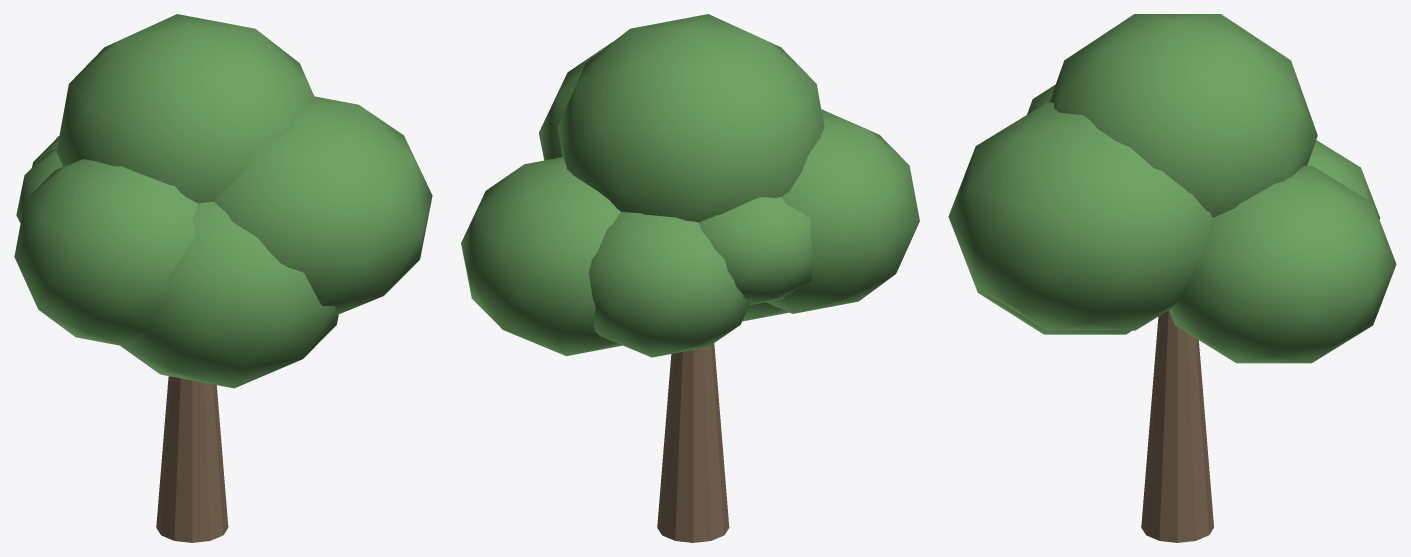
File: tree_oak.glb
The picture shows the model from 3 angles, left to right: view 1: azimuth 30°, elevation 25°; view 2: azimuth 150°, elevation 25°; view 3: azimuth 270°, elevation 25°; orthographic projection.
Visible parts, largest first — view 1: Icosphere, Icosphere.006, Icosphere.004, Icosphere.005, Cone, Icosphere.003; view 2: Icosphere, Icosphere.001, Icosphere.004, Icosphere.002, Cone, Icosphere.003, Icosphere.006; view 3: Icosphere.006, Icosphere, Icosphere.001, Cone, Icosphere.002, Icosphere.005.
Boxes of the visible parts, x1,y1,x2,y2 form: Icosphere: [56, 14, 315, 203]; Icosphere.006: [214, 96, 432, 314]; Icosphere.004: [14, 159, 198, 345]; Icosphere.005: [119, 201, 338, 388]; Cone: [156, 376, 228, 542]; Icosphere.003: [16, 148, 62, 223]; Icosphere: [557, 14, 824, 222]; Icosphere.001: [461, 157, 622, 355]; Icosphere.004: [766, 109, 919, 313]; Icosphere.002: [588, 212, 750, 357]; Cone: [657, 343, 729, 542]; Icosphere.003: [698, 197, 812, 304]; Icosphere.006: [539, 42, 612, 160]; Icosphere.006: [948, 102, 1212, 330]; Icosphere: [1049, 14, 1317, 217]; Icosphere.001: [1169, 165, 1396, 363]; Cone: [1141, 310, 1213, 542]; Icosphere.002: [1307, 140, 1380, 219]; Icosphere.005: [976, 287, 1131, 334].
Size of the model in its own units: 2.76 by 3.67 by 2.95.
